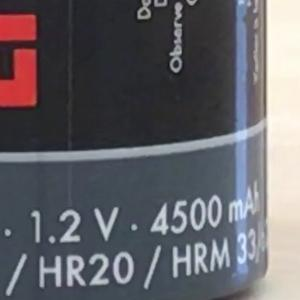HR20: (30, 242, 135, 297)
